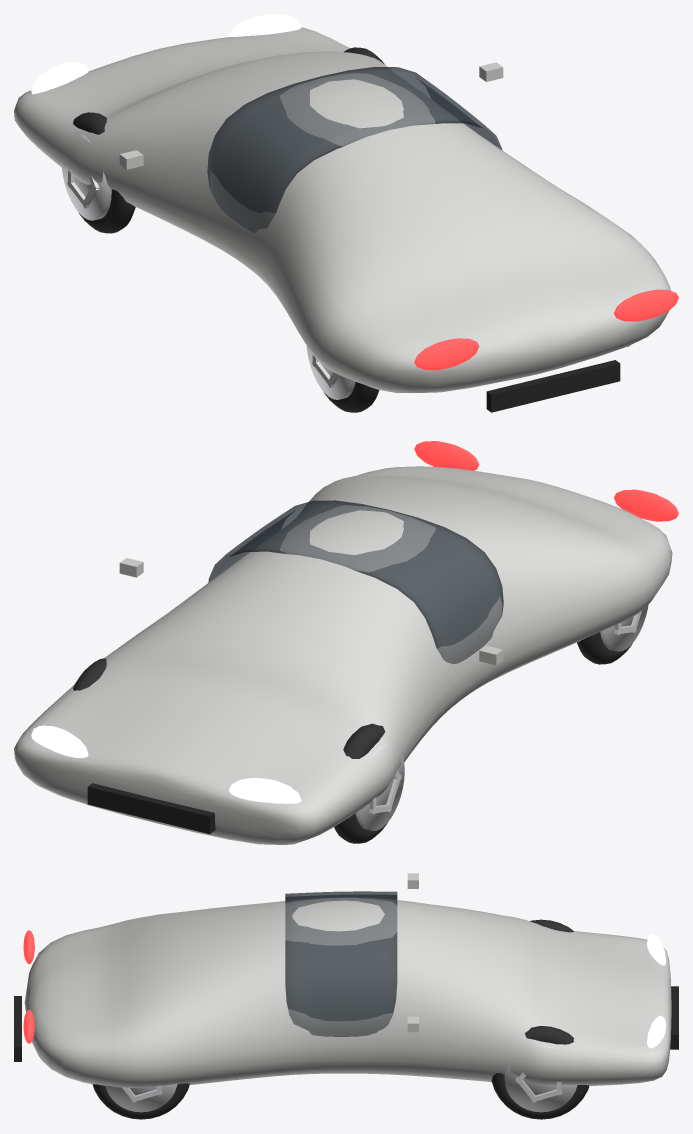
The model's file is lamborghini_countach_lp5000_qv_1988.glb.
3 views of the same model, one above another, from view 1: azimuth 30°, elevation 25°; view 2: azimuth 150°, elevation 25°; view 3: azimuth 270°, elevation 25° (orthographic). The views are drawn at different scales.
Parts seen in each view (by area): view 1: Body, Glass, Diffuser, Tyre_FR, Taillight_L, Taillight_R, Rim_FR, Headlight_L, Headlight_R, Tyre_RR, Rim_RR; view 2: Body, Glass, FrontIntake, Tyre_FR, Taillight_R, Headlight_R, Taillight_L, Headlight_L, Rim_FR, Tyre_RR, Rim_RR; view 3: Body, Glass, Tyre_FL, Rim_FL, Rim_RL, Tyre_RL, Diffuser, FrontIntake, Headlight_L, Headlight_R.
Part boxes in pixels (bbox=[...]): Body: bbox=[14, 27, 670, 393]; Glass: bbox=[207, 67, 502, 232]; Diffuser: bbox=[486, 360, 620, 412]; Tyre_FR: bbox=[73, 112, 135, 233]; Taillight_L: bbox=[614, 289, 678, 321]; Taillight_R: bbox=[414, 338, 479, 370]; Rim_FR: bbox=[62, 132, 111, 220]; Headlight_L: bbox=[229, 14, 301, 36]; Headlight_R: bbox=[31, 62, 88, 94]; Tyre_RR: bbox=[323, 382, 379, 412]; Rim_RR: bbox=[306, 346, 355, 399]; Body: bbox=[14, 466, 672, 844]; Glass: bbox=[208, 500, 503, 663]; FrontIntake: bbox=[87, 783, 215, 834]; Tyre_FR: bbox=[334, 723, 387, 843]; Taillight_R: bbox=[614, 489, 678, 521]; Headlight_R: bbox=[229, 778, 301, 803]; Taillight_L: bbox=[414, 441, 479, 470]; Headlight_L: bbox=[31, 725, 88, 758]; Rim_FR: bbox=[355, 743, 404, 830]; Tyre_RR: bbox=[577, 632, 632, 664]; Rim_RR: bbox=[600, 605, 648, 651]; Body: bbox=[24, 897, 671, 1087]; Glass: bbox=[285, 891, 397, 1036]; Tyre_FL: bbox=[491, 1026, 589, 1119]; Rim_FL: bbox=[504, 1045, 577, 1112]; Rim_RL: bbox=[105, 1083, 177, 1112]; Tyre_RL: bbox=[92, 1083, 189, 1119]; Diffuser: bbox=[14, 996, 21, 1061]; FrontIntake: bbox=[670, 986, 678, 1049]; Headlight_L: bbox=[647, 1015, 666, 1048]; Headlight_R: bbox=[647, 934, 665, 965].
Bounding box in the file's own units: 2.22 × 1.06 × 4.15.
